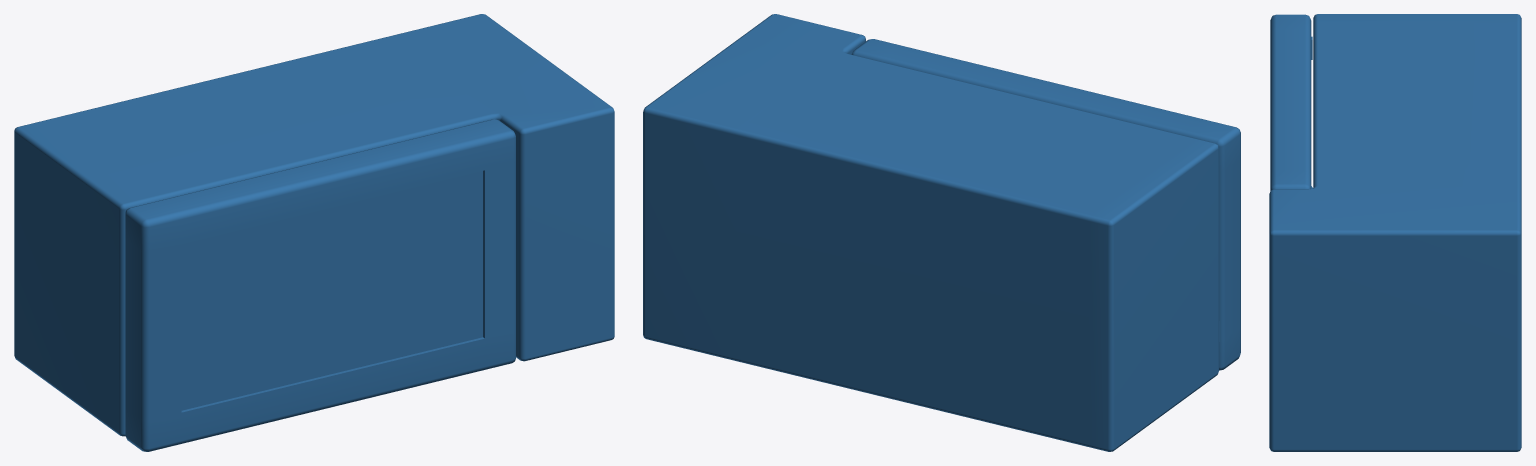
The model's file is microondas.fbx.
3 views of the same model, side by side, from view 1: azimuth 30°, elevation 25°; view 2: azimuth 150°, elevation 25°; view 3: azimuth 270°, elevation 25° (orthographic). The views are drawn at different scales.
Visible parts, largest first — view 1: mIcroondas; view 2: mIcroondas; view 3: mIcroondas.
Part boxes in pixels (<box>): mIcroondas: <box>14,14,614,451</box>; mIcroondas: <box>643,14,1240,451</box>; mIcroondas: <box>1269,14,1521,451</box>.
Bounding box in the file's own units: 0.6621 × 0.3238 × 0.3213.
